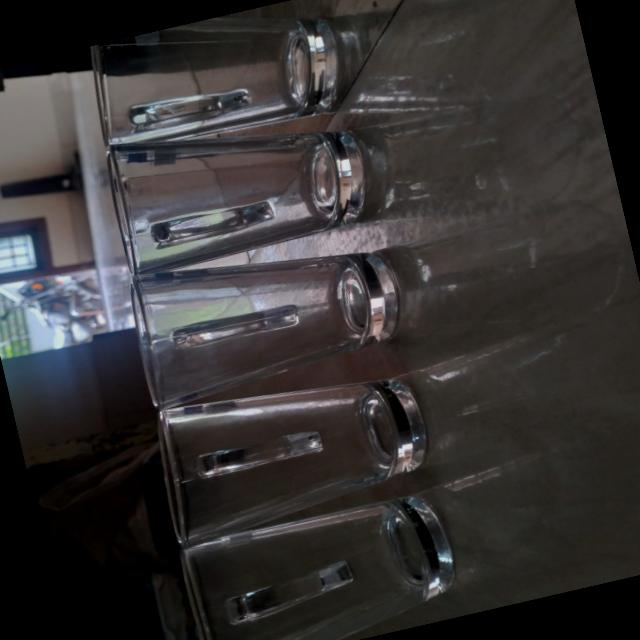glass-VX4N: (150, 346, 441, 544), (121, 218, 416, 408), (96, 93, 378, 274), (172, 482, 464, 640), (86, 0, 348, 144)
